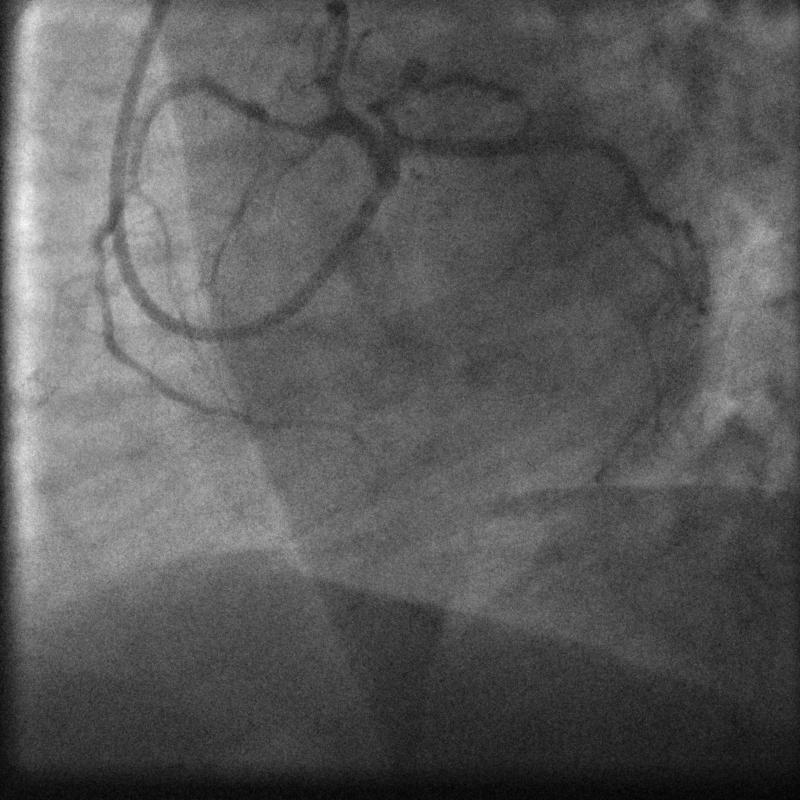Stenosis: (263, 101, 321, 149)
